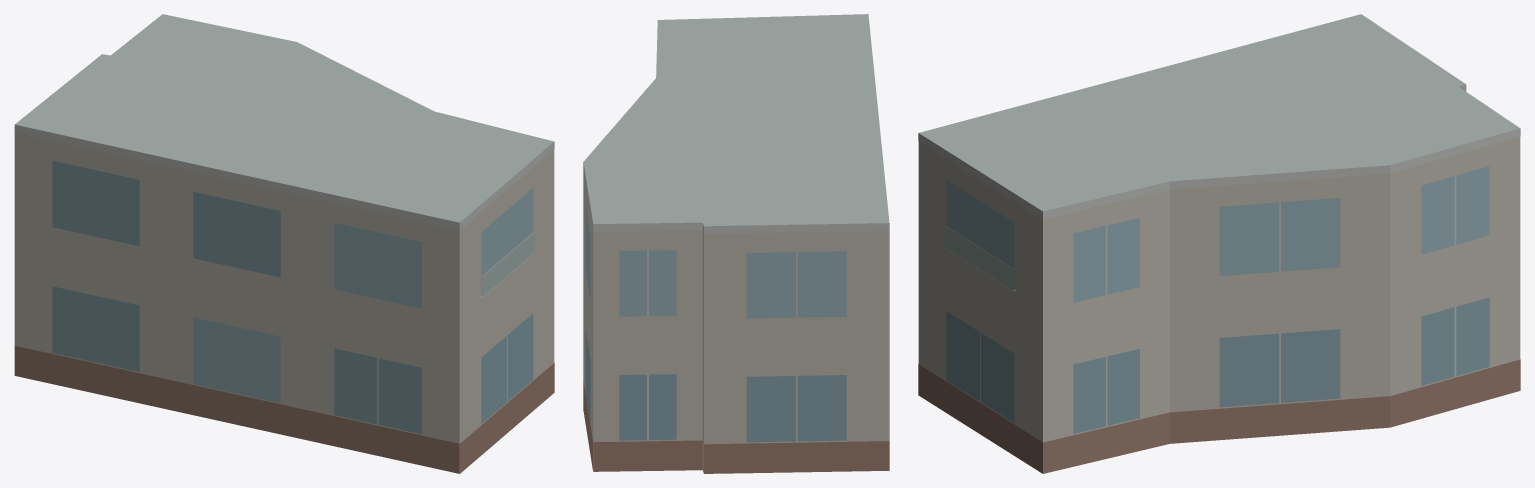
File: survey-upis-32760938.glb
3 views of the same model, side by side, from view 1: azimuth 30°, elevation 25°; view 2: azimuth 150°, elevation 25°; view 3: azimuth 270°, elevation 25° (orthographic). The views are drawn at different scales.
Parts seen in each view (by area): view 1: survey-upis-32760938.tmp; view 2: survey-upis-32760938.tmp; view 3: survey-upis-32760938.tmp.
Boxes of the visible parts, x1,y1,x2,y2 form: survey-upis-32760938.tmp: [14, 14, 554, 473]; survey-upis-32760938.tmp: [583, 14, 889, 473]; survey-upis-32760938.tmp: [918, 14, 1520, 473].
Size of the model in its own units: 12.6 by 7.8 by 16.23.
